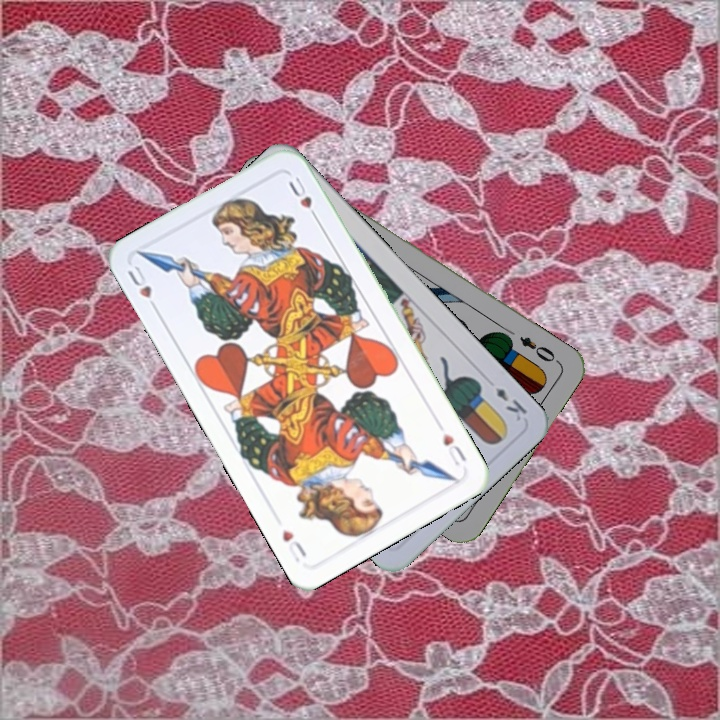EK: (491, 383, 530, 423)
EO: (515, 332, 562, 366)
HU: (123, 261, 162, 315), (438, 429, 470, 469)
